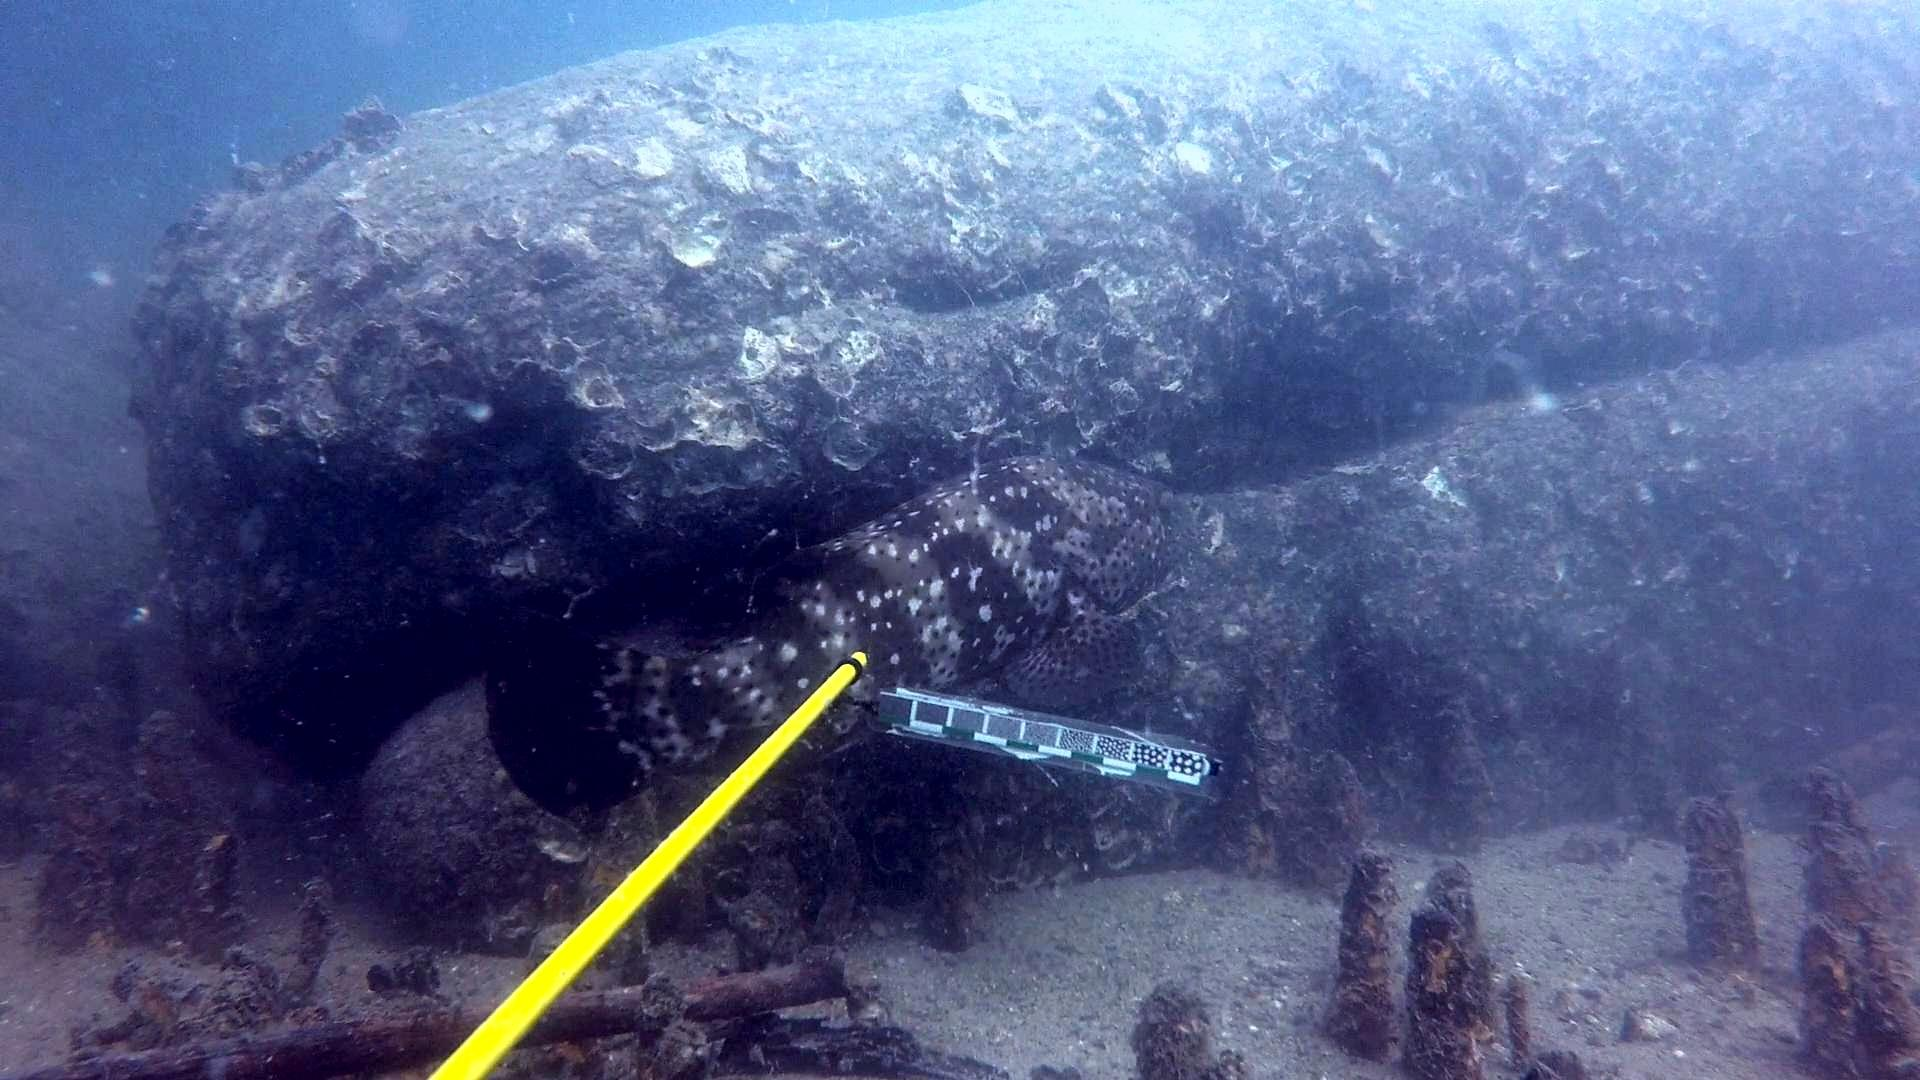epinephelus: (480, 448, 1204, 827)
